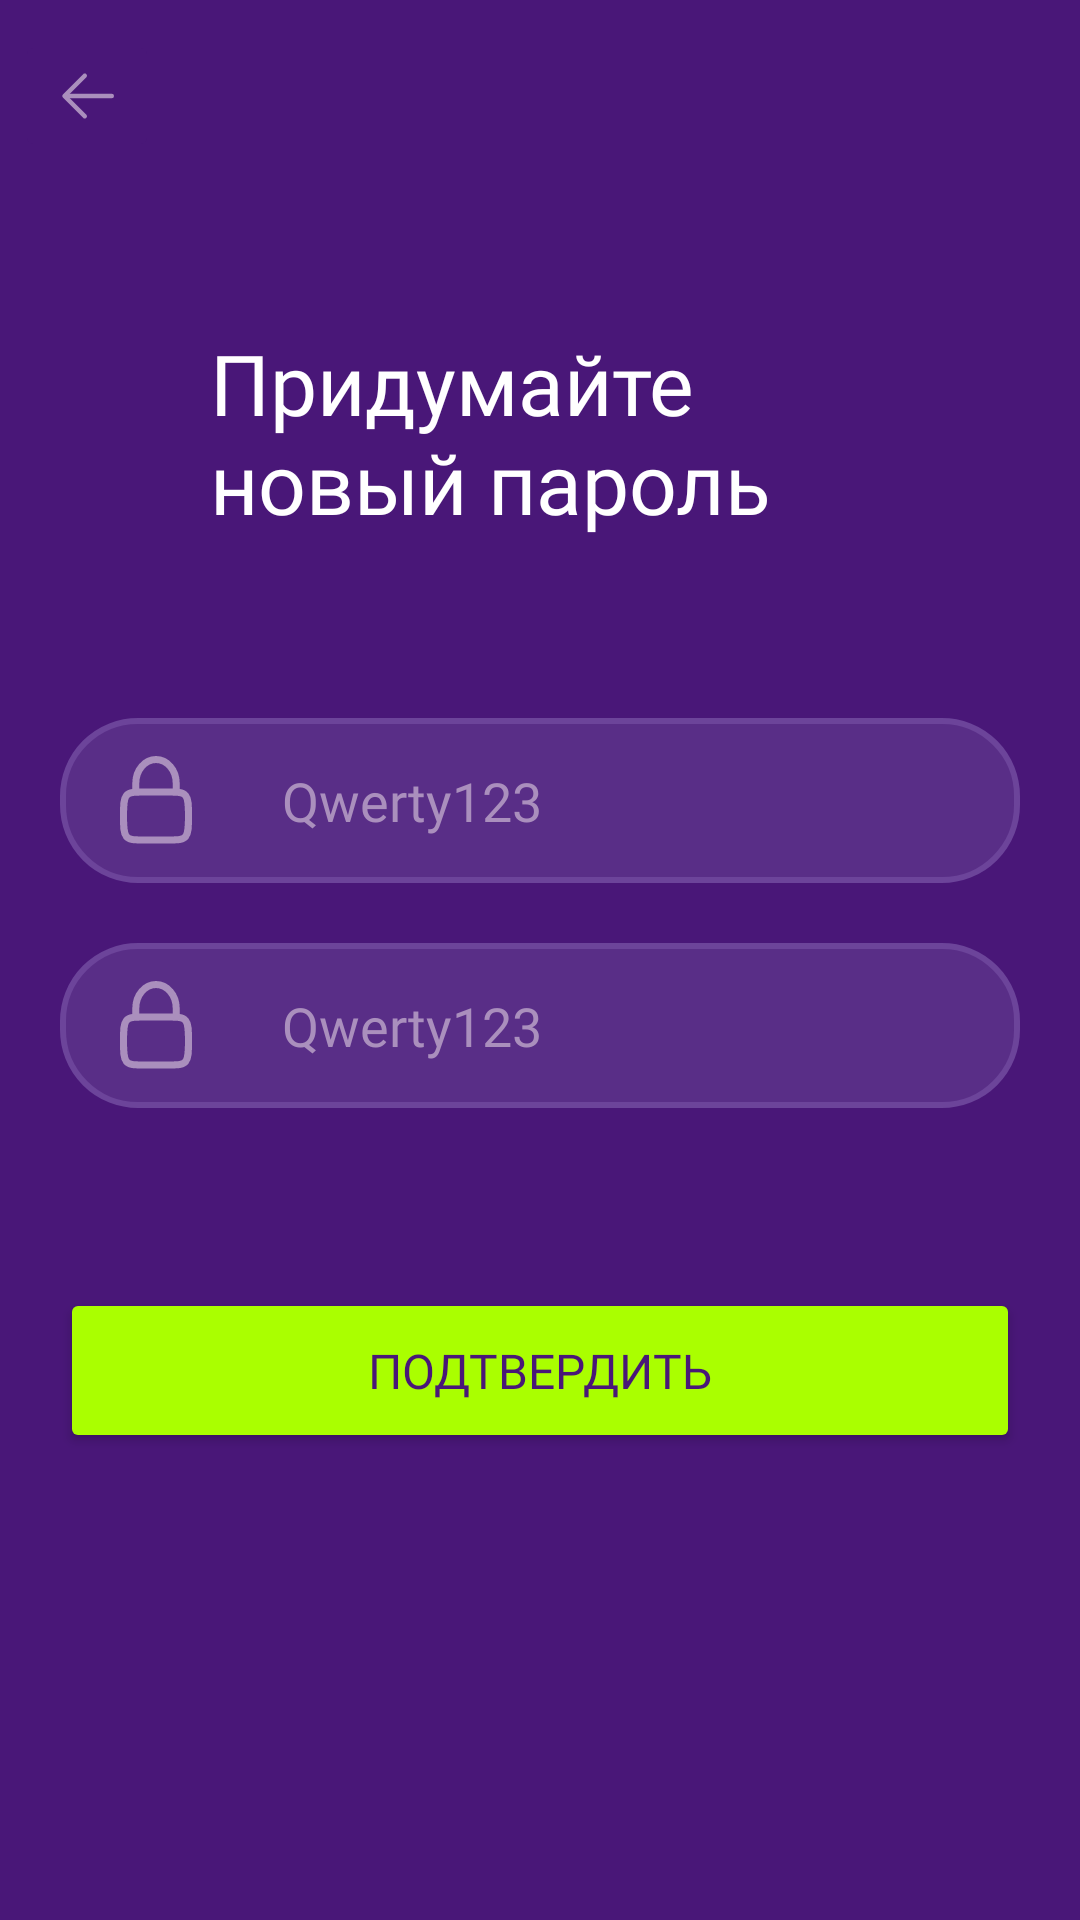

Named icons in this screenshot (1080px x 1920px) and their bounding boxes, (x1, y1, x2, y2):
back: (62, 73, 114, 119)
